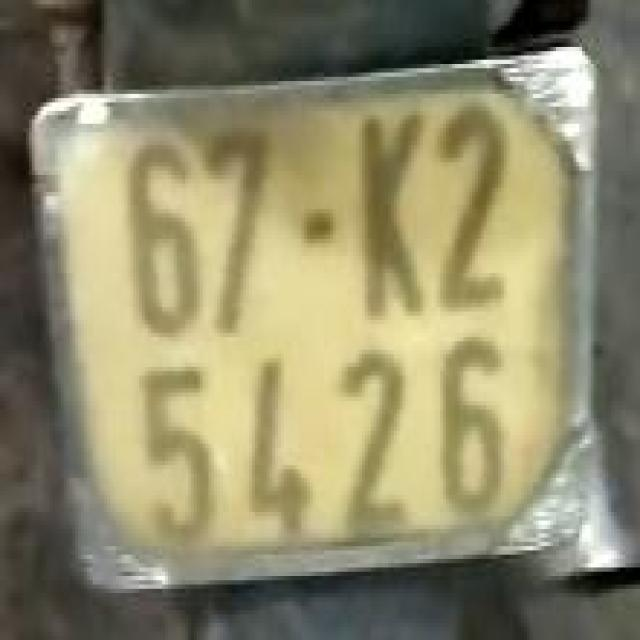2: (334, 342, 418, 550), (441, 96, 518, 318)
4: (229, 352, 324, 548)
5: (120, 344, 222, 561)
6: (116, 120, 208, 337), (428, 326, 509, 523)
7: (203, 122, 281, 330)
K: (344, 105, 432, 326)
